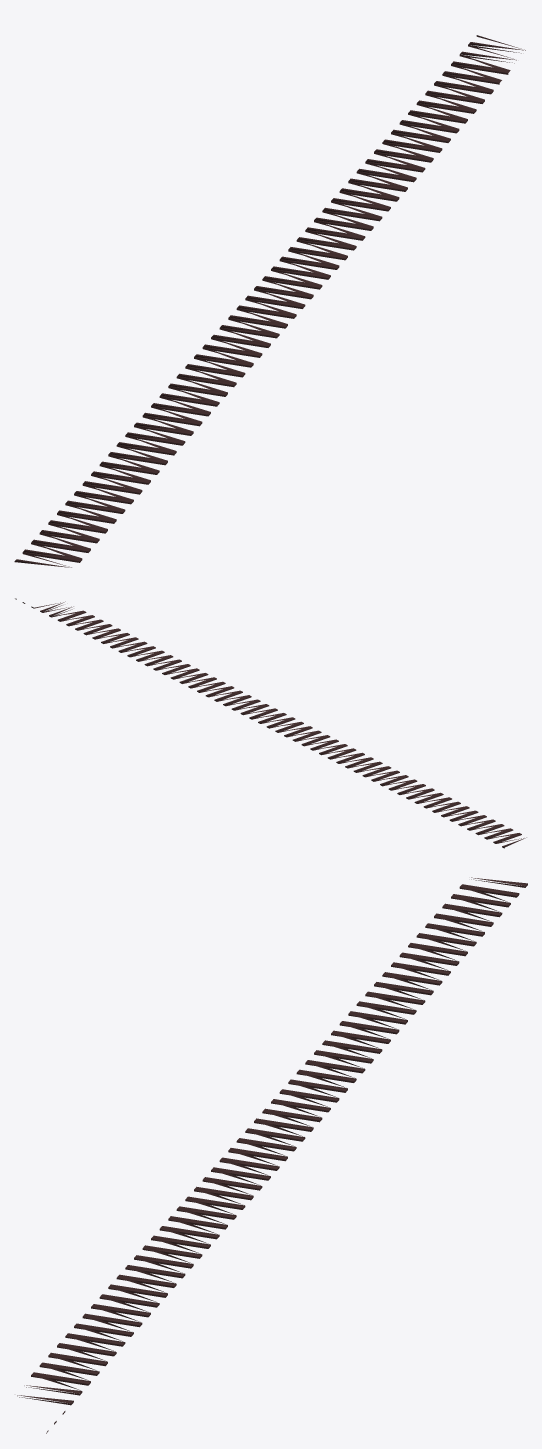
The picture shows the model from 3 angles, top to bottom: view 1: azimuth 90°, elevation 25°; view 2: azimuth 150°, elevation 25°; view 3: azimuth 270°, elevation 25°; orthographic projection. The views are drawn at different scales.
Size of the model in its own units: 45.92 by 0.064 by 17.95.
